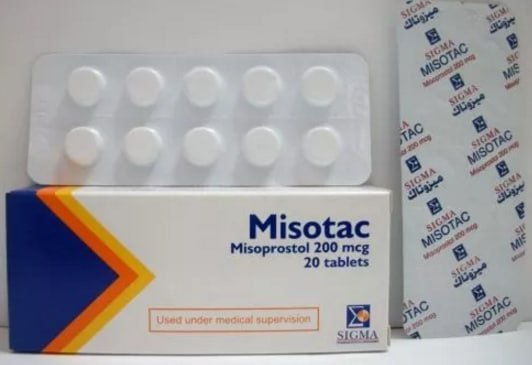Medicine: (1, 186, 397, 354), (398, 1, 529, 339)
